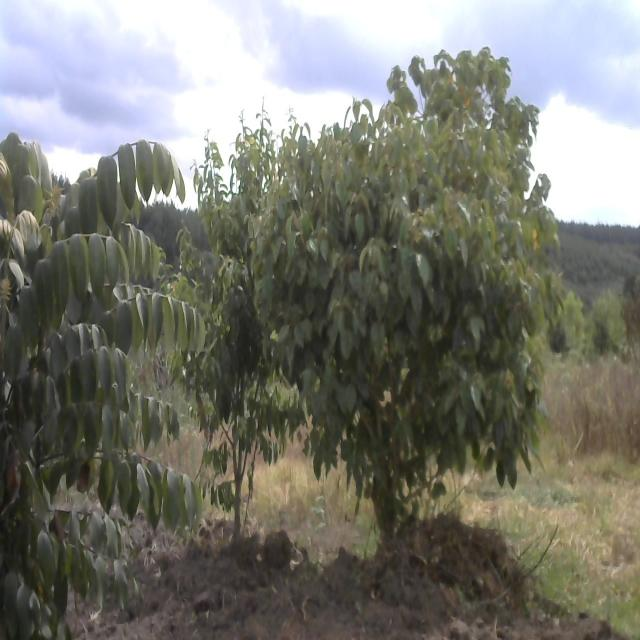Lemon Myrtle: (173, 98, 297, 586)
Polyscias fulva: (0, 108, 210, 640)
other: (251, 43, 594, 606)
